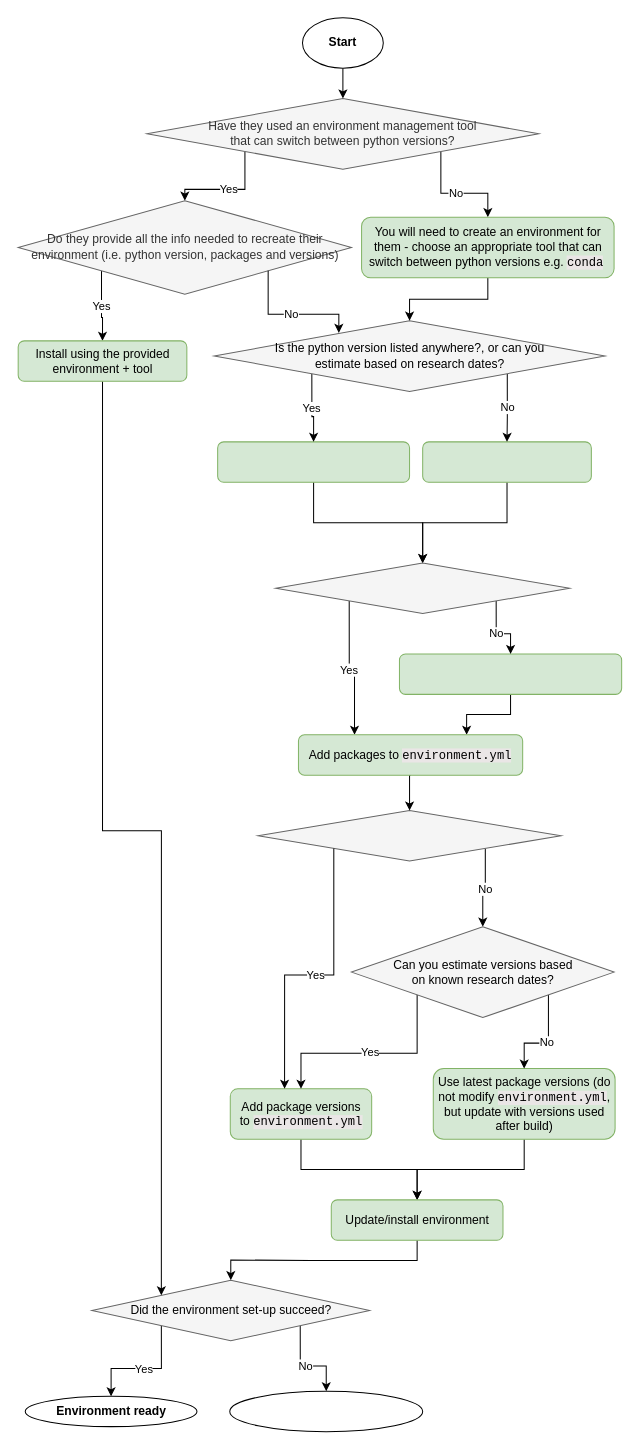
The diagram is 639 pixels wide and 1452 high, and some of its shapes have lost their labels. Here are the shapes that lost their labels. From the top down, the centre of each, then its label:
the point at 313,461: Create environment.yml with known/estimated python version
the point at 506,461: Use latest python version
the point at 422,588: Are packages listed anywhere?
the point at 510,673: Identify required packages from code
the point at 409,835: Are package versions listed anywhere?
the point at 326,1411: See troubleshooting section
